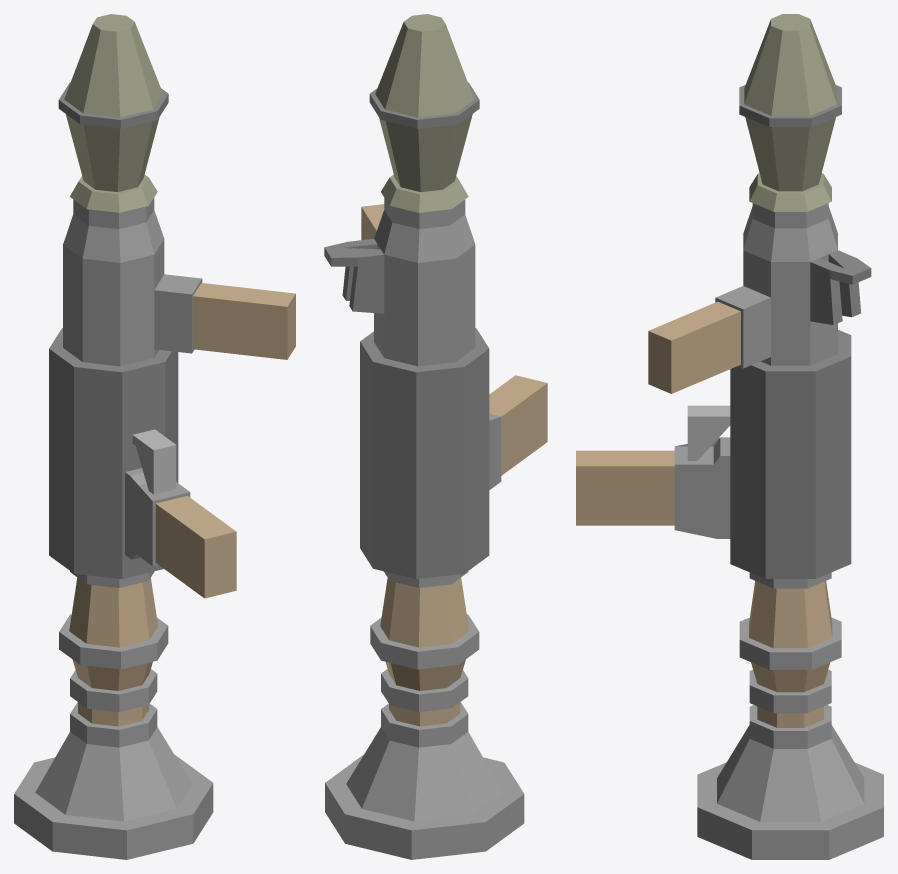
Rendered from rocketlauncherside.fbx.
The picture shows the model from 3 angles, left to right: view 1: azimuth 30°, elevation 25°; view 2: azimuth 150°, elevation 25°; view 3: azimuth 270°, elevation 25°; orthographic projection.
Visible parts, largest first — view 1: imagetostl_mesh105, imagetostl_mesh91, imagetostl_mesh357, imagetostl_mesh144, imagetostl_mesh143, imagetostl_mesh300, imagetostl_mesh289, imagetostl_mesh163, imagetostl_mesh76, imagetostl_mesh348, imagetostl_mesh311, imagetostl_mesh74 (+40 smaller); view 2: imagetostl_mesh90, imagetostl_mesh99, imagetostl_mesh91, imagetostl_mesh374, imagetostl_mesh125, imagetostl_mesh298, imagetostl_mesh301, imagetostl_mesh163, imagetostl_mesh122, imagetostl_mesh69, imagetostl_mesh313, imagetostl_mesh70 (+36 smaller); view 3: imagetostl_mesh184, imagetostl_mesh122, imagetostl_mesh110, imagetostl_mesh161, imagetostl_mesh152, imagetostl_mesh345, imagetostl_mesh359, imagetostl_mesh287, imagetostl_mesh288, imagetostl_mesh302, imagetostl_mesh72, imagetostl_mesh324 (+32 smaller).
Boxes of the visible parts, x1,y1,x2,y2 form: imagetostl_mesh105: (74,367,122,578); imagetostl_mesh91: (49,349,73,573); imagetostl_mesh357: (193,296,287,359); imagetostl_mesh144: (82,258,120,366); imagetostl_mesh143: (120,255,154,366); imagetostl_mesh300: (65,744,123,821); imagetostl_mesh289: (119,740,176,821); imagetostl_mesh163: (155,504,204,598); imagetostl_mesh76: (83,30,120,117); imagetostl_mesh348: (154,290,191,353); imagetostl_mesh311: (52,822,126,859); imagetostl_mesh74: (116,28,153,117); imagetostl_mesh90: (416,367,464,579); imagetostl_mesh99: (373,362,416,578); imagetostl_mesh91: (464,349,489,573); imagetostl_mesh374: (418,258,455,366); imagetostl_mesh125: (384,255,417,366); imagetostl_mesh298: (414,744,472,821); imagetostl_mesh301: (362,740,418,821); imagetostl_mesh163: (501,383,547,475); imagetostl_mesh122: (360,342,372,567); imagetostl_mesh69: (418,30,454,117); imagetostl_mesh313: (411,822,485,859); imagetostl_mesh70: (385,28,421,117); imagetostl_mesh184: (765,371,815,578); imagetostl_mesh122: (815,356,851,578); imagetostl_mesh110: (730,365,765,578); imagetostl_mesh161: (576,466,674,525); imagetostl_mesh152: (674,456,730,538); imagetostl_mesh345: (771,262,810,365); imagetostl_mesh359: (671,311,740,393); imagetostl_mesh287: (760,749,820,821); imagetostl_mesh288: (717,739,773,821); imagetostl_mesh302: (807,739,863,821); imagetostl_mesh72: (771,30,809,115); imagetostl_mesh324: (752,830,829,859).
Size of the model in its own units: 4.32 by 16.14 by 5.64.
